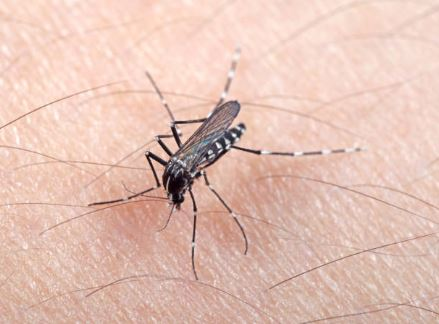dengue_mosquito: (105, 73, 285, 254)
